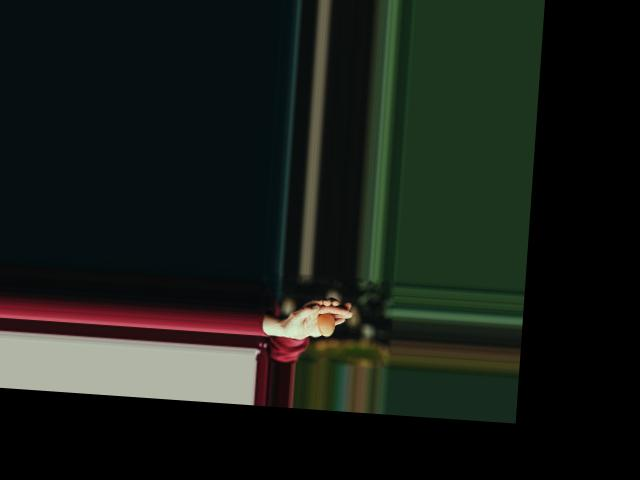egg: (316, 312, 335, 336)
